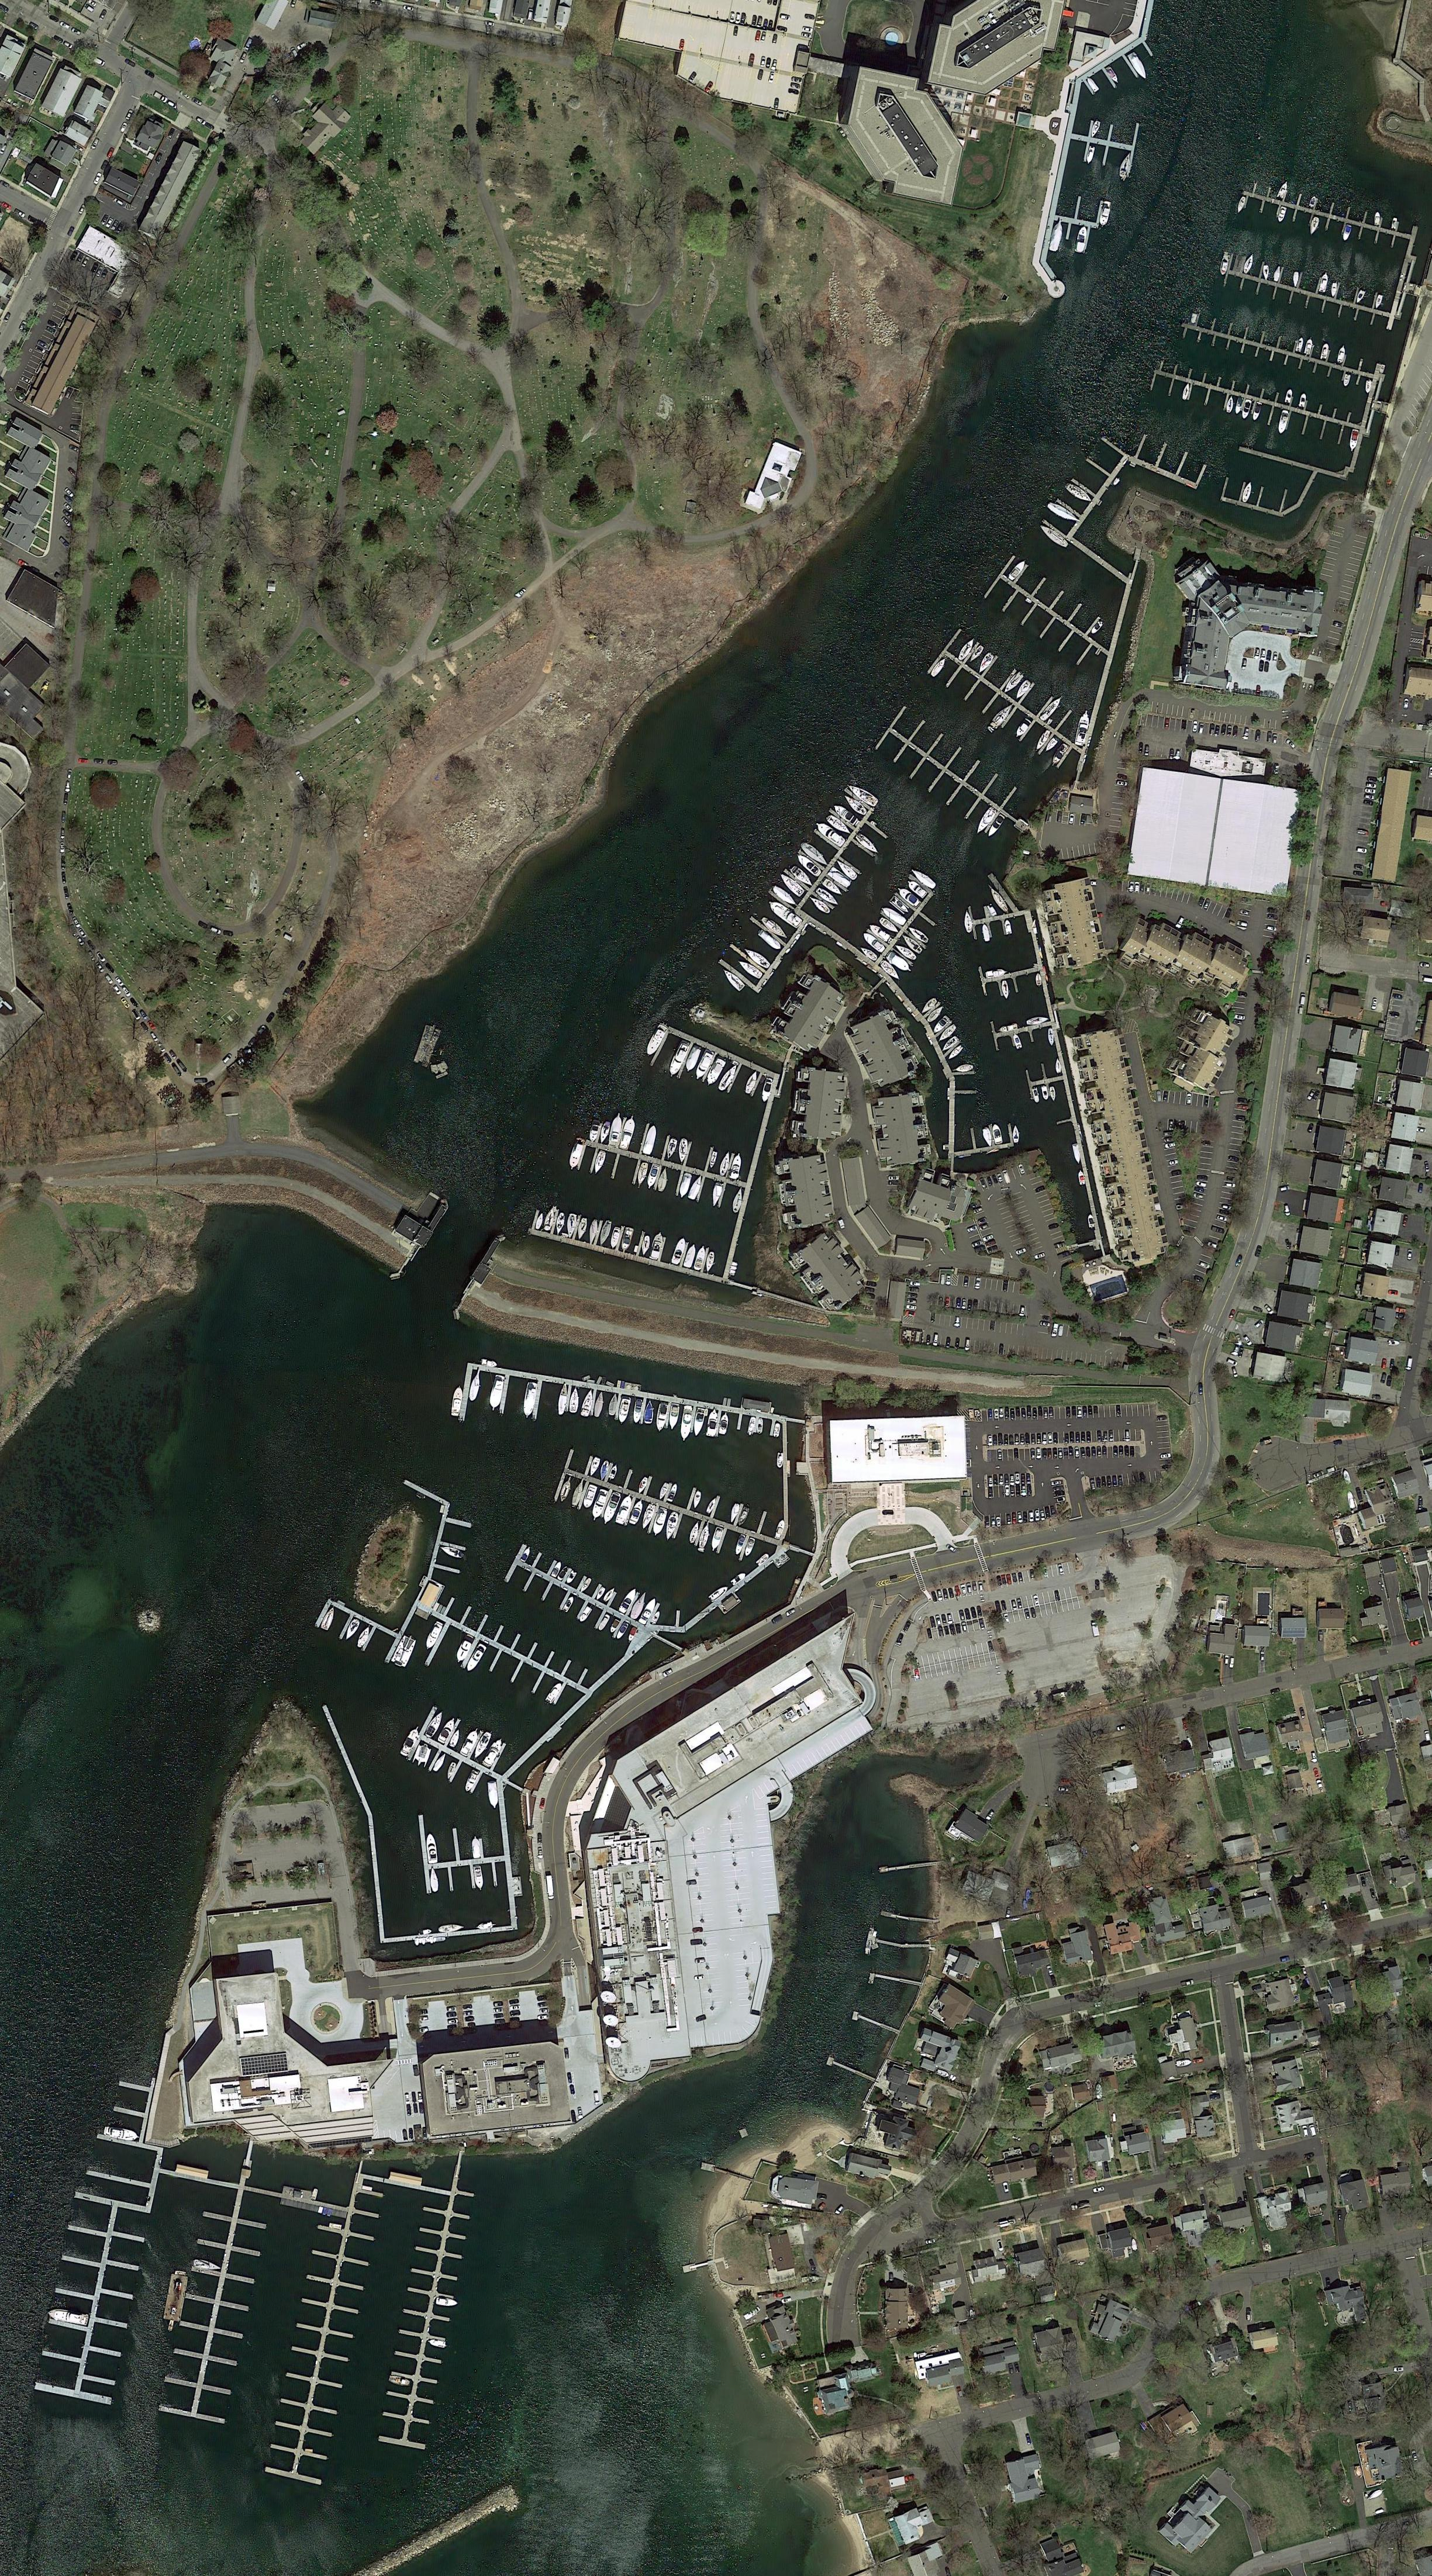harbor: (448, 1224, 771, 1389), (34, 2070, 182, 2403), (257, 2156, 397, 2488), (714, 778, 901, 1000), (155, 2139, 293, 2424), (451, 1352, 808, 1460), (243, 1120, 457, 1294), (372, 2151, 487, 2454), (305, 1470, 476, 1673), (413, 1576, 605, 1738), (552, 1444, 788, 1569), (873, 702, 1042, 855), (928, 626, 1093, 769), (570, 1100, 757, 1222), (501, 1532, 668, 1661), (1152, 353, 1367, 450), (529, 1201, 734, 1287), (981, 552, 1120, 677), (1182, 307, 1386, 391), (1217, 247, 1398, 333), (397, 1696, 531, 1811), (1236, 178, 1418, 257), (642, 1014, 785, 1114), (852, 860, 959, 984), (1042, 432, 1136, 543), (1055, 1097, 1113, 1262), (420, 1805, 517, 1894), (314, 1696, 381, 1816), (910, 994, 981, 1081), (1081, 41, 1159, 104), (958, 887, 1037, 947), (1049, 189, 1116, 259), (1134, 430, 1210, 490), (1069, 111, 1141, 173), (1240, 443, 1347, 483), (1220, 473, 1307, 520), (390, 1918, 513, 1950), (947, 1118, 1023, 1165), (362, 1820, 390, 1947), (862, 1925, 938, 1971), (981, 950, 1049, 1000), (991, 1007, 1060, 1054), (1026, 1060, 1070, 1106), (825, 2052, 878, 2088), (852, 2005, 901, 2038), (876, 1857, 943, 1880), (878, 1904, 938, 1929), (869, 1969, 924, 1994)
ship: (767, 897, 806, 931), (388, 1631, 420, 1670), (813, 820, 848, 852), (1039, 520, 1070, 552), (986, 702, 1016, 735), (644, 1023, 672, 1058), (847, 781, 882, 809), (667, 1039, 693, 1076), (1046, 499, 1083, 525), (600, 1488, 623, 1529), (758, 913, 790, 942), (714, 1061, 741, 1095), (741, 945, 774, 972), (464, 1640, 490, 1673), (480, 1737, 506, 1770), (1039, 693, 1065, 726), (878, 903, 910, 929), (831, 802, 862, 829), (988, 885, 1014, 917), (453, 1633, 478, 1666), (48, 2306, 90, 2326), (910, 864, 938, 892), (771, 883, 801, 910), (884, 949, 914, 975), (778, 873, 808, 899), (787, 862, 817, 889), (799, 839, 829, 866), (1063, 480, 1093, 506), (489, 1372, 508, 1412), (691, 1051, 716, 1083), (615, 1585, 640, 1617), (1125, 49, 1150, 81), (457, 1726, 481, 1758), (421, 1709, 446, 1740), (589, 1488, 612, 1522), (399, 1724, 421, 1758), (605, 1111, 624, 1150), (825, 864, 854, 890), (854, 829, 880, 857), (721, 966, 748, 994), (757, 926, 783, 954), (875, 956, 903, 982), (861, 929, 889, 956), (795, 852, 824, 878), (824, 811, 852, 838), (614, 1492, 635, 1527), (704, 1056, 728, 1086), (975, 806, 1000, 836), (637, 1596, 660, 1627), (423, 1619, 446, 1650), (471, 1728, 494, 1760), (954, 635, 977, 666), (617, 1114, 637, 1151), (566, 1141, 587, 1174), (834, 855, 861, 882), (894, 885, 924, 908), (411, 1740, 434, 1770), (1046, 219, 1065, 254), (522, 1381, 540, 1419), (102, 2126, 141, 2144), (556, 1472, 577, 1504), (808, 892, 834, 917), (905, 876, 931, 901), (843, 793, 869, 818), (679, 1405, 697, 1442), (1074, 711, 1092, 748), (1002, 668, 1026, 695), (640, 1125, 660, 1158), (737, 959, 765, 982), (436, 1716, 459, 1744), (467, 1368, 485, 1403), (628, 1590, 647, 1622), (668, 1236, 688, 1268), (1005, 559, 1030, 584), (813, 885, 839, 908), (868, 922, 894, 945), (693, 1405, 711, 1439), (644, 1162, 663, 1192), (647, 1231, 667, 1261), (707, 1523, 727, 1553), (626, 1497, 645, 1527), (894, 942, 919, 964), (901, 933, 926, 956), (887, 894, 912, 917), (975, 651, 998, 675), (654, 1402, 672, 1433), (570, 1476, 587, 1508), (543, 1680, 564, 1707), (190, 2257, 222, 2274), (986, 813, 1007, 839), (682, 1046, 702, 1074), (686, 1174, 705, 1202), (640, 1500, 660, 1529), (651, 1508, 670, 1536), (663, 1511, 682, 1539), (727, 1153, 744, 1183), (1118, 152, 1136, 182), (682, 1241, 700, 1271), (619, 1225, 637, 1255), (582, 1481, 600, 1511), (936, 1023, 959, 1046), (878, 913, 901, 936), (820, 876, 845, 897), (342, 1617, 363, 1642), (1014, 716, 1035, 741), (1049, 742, 1070, 767), (695, 1522, 714, 1548), (742, 1068, 760, 1097), (578, 1389, 596, 1418), (439, 1543, 467, 1560), (319, 1604, 337, 1633), (1014, 677, 1035, 700), (906, 926, 931, 945), (705, 1583, 730, 1603), (635, 1160, 651, 1190), (617, 1396, 633, 1426), (693, 1243, 709, 1273), (675, 1173, 693, 1199), (596, 1220, 614, 1247), (354, 1624, 372, 1650), (760, 1074, 776, 1102), (924, 1003, 945, 1024), (716, 1411, 732, 1439), (705, 1407, 720, 1439), (591, 1391, 607, 1419), (1097, 199, 1113, 227), (1074, 226, 1090, 254), (730, 1187, 746, 1215), (686, 1518, 702, 1546), (947, 1040, 966, 1063), (451, 1384, 464, 1419), (425, 1834, 439, 1864), (593, 1150, 608, 1176), (716, 1150, 732, 1176), (1275, 409, 1291, 436), (564, 1211, 580, 1238), (940, 1033, 961, 1053), (933, 1016, 952, 1037), (968, 642, 988, 663), (728, 1571, 751, 1589), (430, 1751, 448, 1774), (464, 1768, 481, 1791), (1035, 728, 1053, 751), (711, 1181, 725, 1210), (1365, 2486, 1390, 2502), (921, 994, 940, 1014), (1102, 65, 1122, 85), (859, 945, 880, 963), (656, 1167, 670, 1194), (587, 1218, 601, 1245), (668, 1402, 681, 1432), (742, 1534, 758, 1557), (772, 1518, 788, 1541), (665, 1137, 679, 1162), (704, 1248, 716, 1277), (577, 1215, 591, 1240), (587, 1455, 601, 1479), (487, 1779, 499, 1807), (429, 1865, 441, 1894), (1347, 428, 1361, 453), (577, 1604, 594, 1624), (1042, 735, 1062, 753), (557, 1384, 568, 1416), (543, 1206, 556, 1232), (437, 1922, 464, 1934), (473, 1864, 485, 1890), (587, 1120, 601, 1143), (638, 1234, 653, 1257), (608, 1227, 623, 1250), (552, 1213, 566, 1236), (734, 1532, 748, 1555), (615, 1620, 631, 1640), (1234, 196, 1250, 215), (735, 1508, 751, 1527), (556, 1564, 571, 1583), (444, 1761, 460, 1781), (600, 1120, 612, 1144), (642, 1400, 654, 1425), (568, 1389, 580, 1414), (679, 1137, 690, 1165), (1335, 346, 1349, 367), (1275, 180, 1289, 201), (665, 1481, 679, 1502), (550, 1559, 564, 1580), (448, 1728, 462, 1749), (1250, 402, 1264, 423), (1240, 398, 1254, 420), (998, 979, 1012, 1000), (746, 1416, 758, 1439), (631, 1400, 644, 1423), (607, 1395, 619, 1418), (1317, 272, 1330, 294), (1243, 254, 1256, 277), (1309, 215, 1321, 238), (728, 1502, 741, 1525), (471, 1835, 483, 1858), (1242, 481, 1254, 504), (1224, 393, 1236, 416), (601, 1587, 617, 1604), (755, 1552, 772, 1567), (1088, 619, 1104, 637), (561, 1596, 575, 1615), (1086, 76, 1100, 95), (637, 1474, 651, 1493), (1346, 1492, 1360, 1511), (981, 1127, 995, 1146), (1301, 337, 1314, 358), (533, 1211, 545, 1232), (705, 1495, 718, 1516), (600, 1458, 610, 1483), (390, 2375, 411, 2387), (993, 1125, 1005, 1146), (965, 912, 977, 933), (598, 1613, 612, 1631), (578, 1576, 593, 1594), (564, 1567, 578, 1585), (1088, 120, 1102, 138), (1340, 372, 1354, 390), (607, 1463, 621, 1481), (518, 1546, 533, 1564), (1220, 254, 1231, 277), (1070, 1143, 1081, 1165), (1026, 1016, 1049, 1026), (626, 1626, 638, 1645), (1340, 222, 1353, 242), (658, 1481, 670, 1500), (1342, 1467, 1354, 1486), (1233, 395, 1245, 414), (954, 1063, 975, 1074), (1182, 381, 1192, 402), (986, 968, 1007, 979), (981, 922, 991, 943), (594, 1585, 607, 1603), (1294, 337, 1307, 354), (1272, 264, 1284, 282), (986, 901, 998, 919), (1030, 1086, 1042, 1104), (1012, 1033, 1025, 1051), (709, 1150, 720, 1169), (1086, 145, 1097, 164), (1319, 342, 1330, 361), (691, 1490, 702, 1509), (429, 2338, 448, 2349), (1000, 1023, 1019, 1033), (436, 2297, 459, 2306), (801, 2276, 824, 2285), (608, 1619, 621, 1634), (1372, 294, 1384, 310), (1354, 287, 1367, 303), (649, 1610, 661, 1626), (1277, 205, 1287, 222), (1086, 1213, 1097, 1231), (1003, 919, 1014, 936), (1012, 1123, 1021, 1144), (1046, 1026, 1055, 1047), (476, 1922, 496, 1931), (772, 1423, 783, 1439), (1284, 390, 1294, 406), (1176, 2058, 1192, 2068), (757, 1418, 765, 1435), (776, 1451, 785, 1469), (1078, 1169, 1086, 1187), (1298, 391, 1307, 409), (481, 1359, 499, 1368), (1095, 2082, 1104, 2100), (1055, 1058, 1063, 1076), (935, 2068, 949, 2079), (1291, 272, 1300, 287), (1130, 2237, 1139, 2253), (1040, 1084, 1049, 1100), (1189, 312, 1199, 324), (1309, 196, 1319, 208), (1331, 280, 1339, 298), (1390, 217, 1398, 231), (1035, 973, 1044, 987), (1263, 264, 1270, 280), (1049, 1084, 1056, 1100), (1365, 379, 1374, 391), (310, 2188, 319, 2200), (1374, 212, 1381, 226), (968, 2308, 975, 2322), (168, 2319, 175, 2333), (1025, 1888, 1032, 1902), (421, 1929, 434, 1936), (1023, 1899, 1030, 1910), (1374, 2509, 1384, 2516), (175, 2271, 187, 2276), (1379, 365, 1386, 374)
